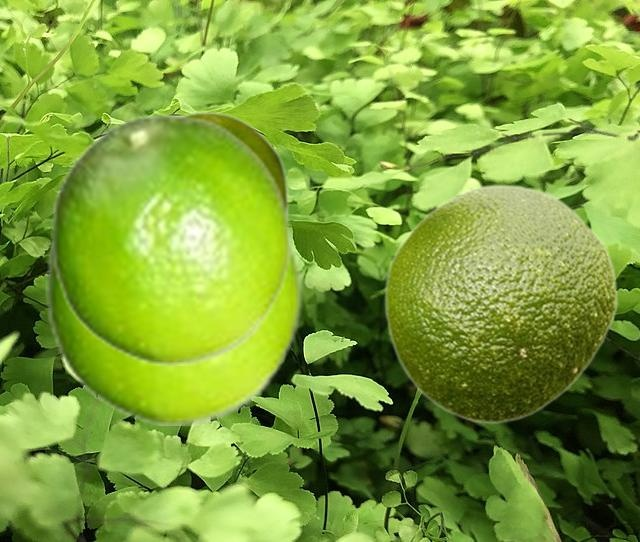calamansi: (50, 112, 292, 364), (383, 183, 617, 424), (45, 228, 303, 424), (180, 110, 288, 207)
